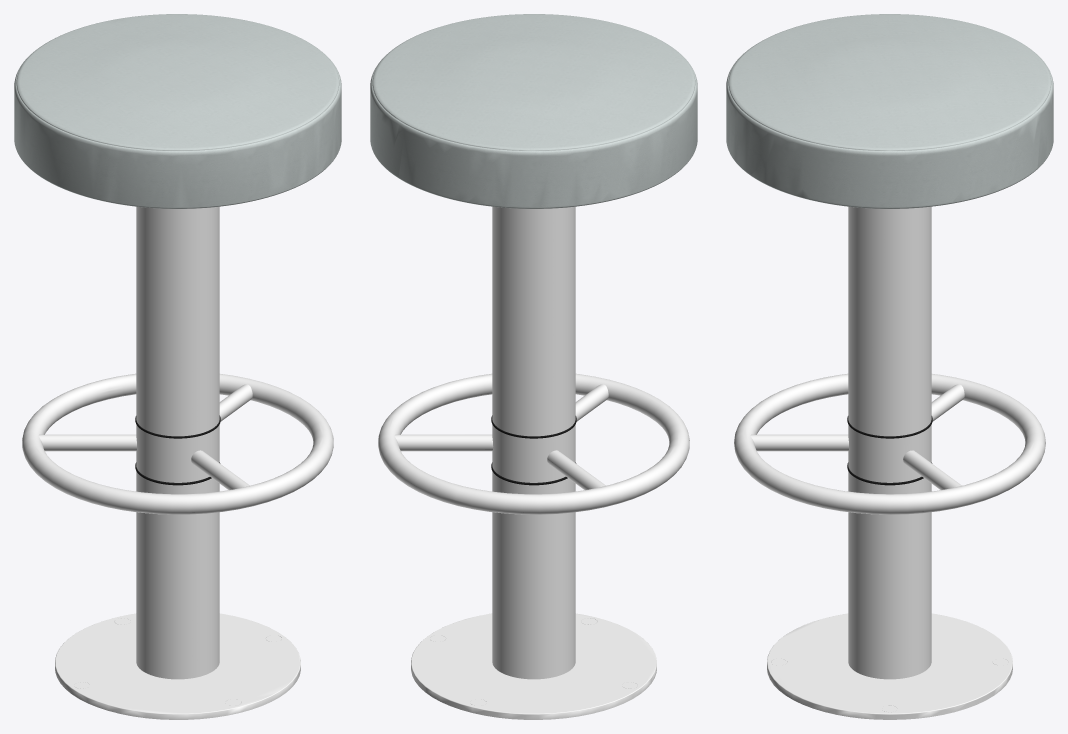
File: c114-clun-287.glb
3 views of the same model, side by side, from view 1: azimuth 30°, elevation 25°; view 2: azimuth 150°, elevation 25°; view 3: azimuth 270°, elevation 25° (orthographic).
Visible parts, largest first — view 1: c114-base-piastra, c114-seduta-acciaio, c114-tubo-boccola-alta; view 2: c114-base-piastra, c114-seduta-acciaio, c114-tubo-boccola-alta; view 3: c114-base-piastra, c114-seduta-acciaio, c114-tubo-boccola-alta.
Part boxes in pixels (x1,y1,x2,y2): c114-base-piastra: (22, 206, 333, 719); c114-seduta-acciaio: (14, 14, 341, 208); c114-tubo-boccola-alta: (135, 415, 220, 485); c114-base-piastra: (378, 206, 689, 719); c114-seduta-acciaio: (370, 14, 697, 208); c114-tubo-boccola-alta: (491, 415, 576, 485); c114-base-piastra: (734, 206, 1045, 719); c114-seduta-acciaio: (726, 14, 1053, 208); c114-tubo-boccola-alta: (847, 416, 932, 485).
Size of the model in its own units: 0.3991 by 0.8009 by 0.3991.
4 materials, 1 textured.
